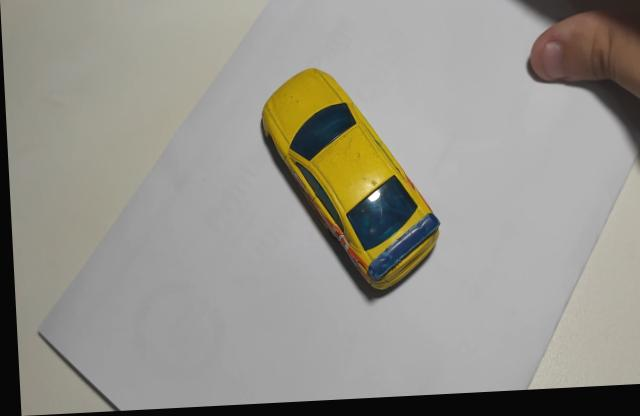02_OZSOME: (258, 72, 439, 309)
